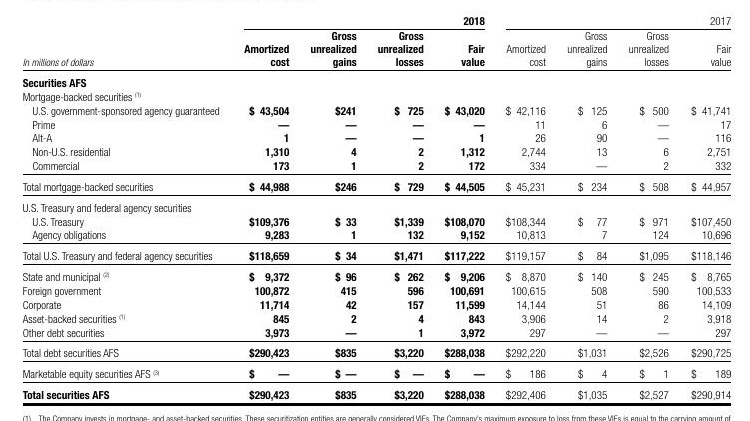table: (0, 0, 750, 421)
